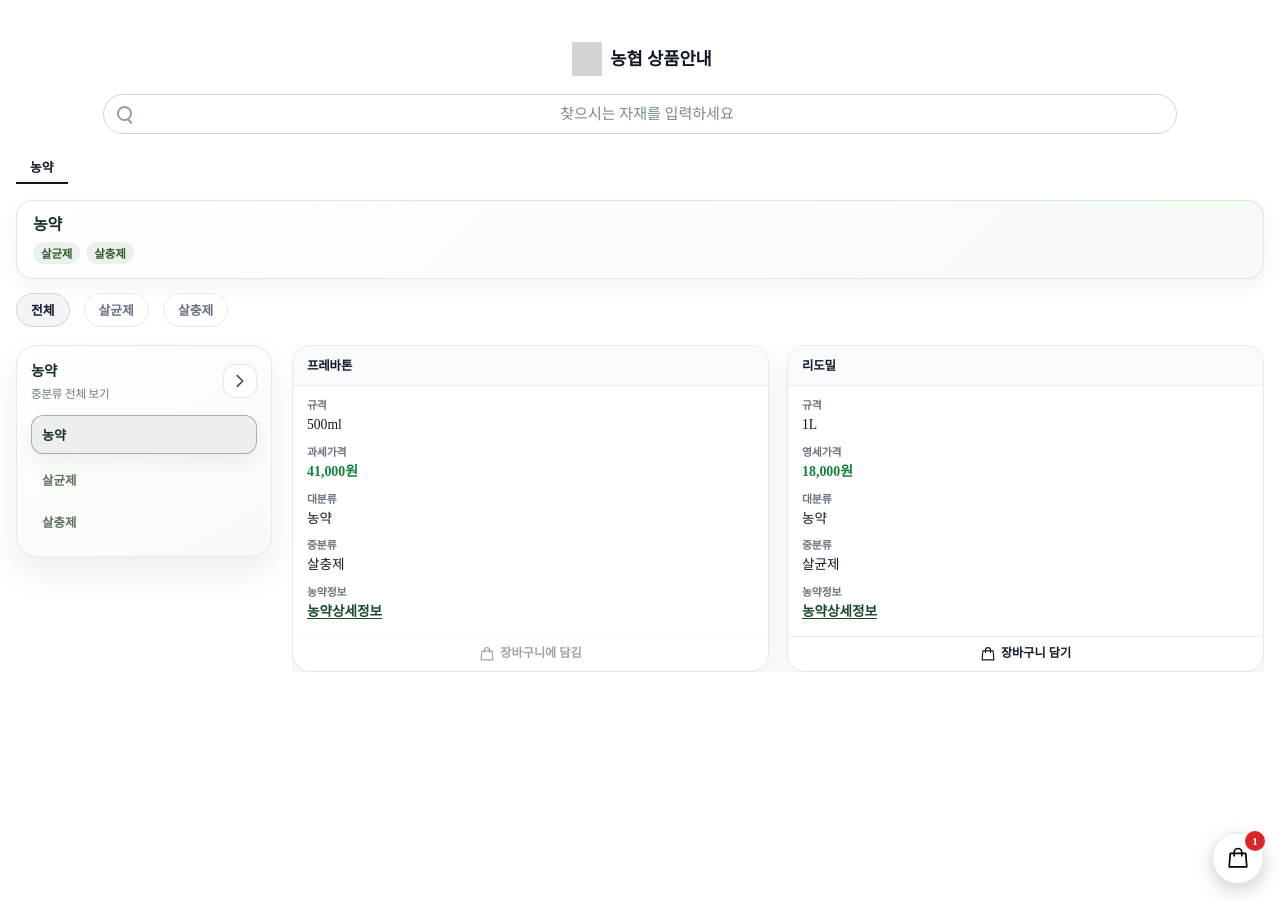
Scenario: storefront cart — panel › reads the current price back, not the price at the time it was added
Click the button with test id "storefront-cart-open" at x=1238, y=858, box [1212, 832, 1264, 884]
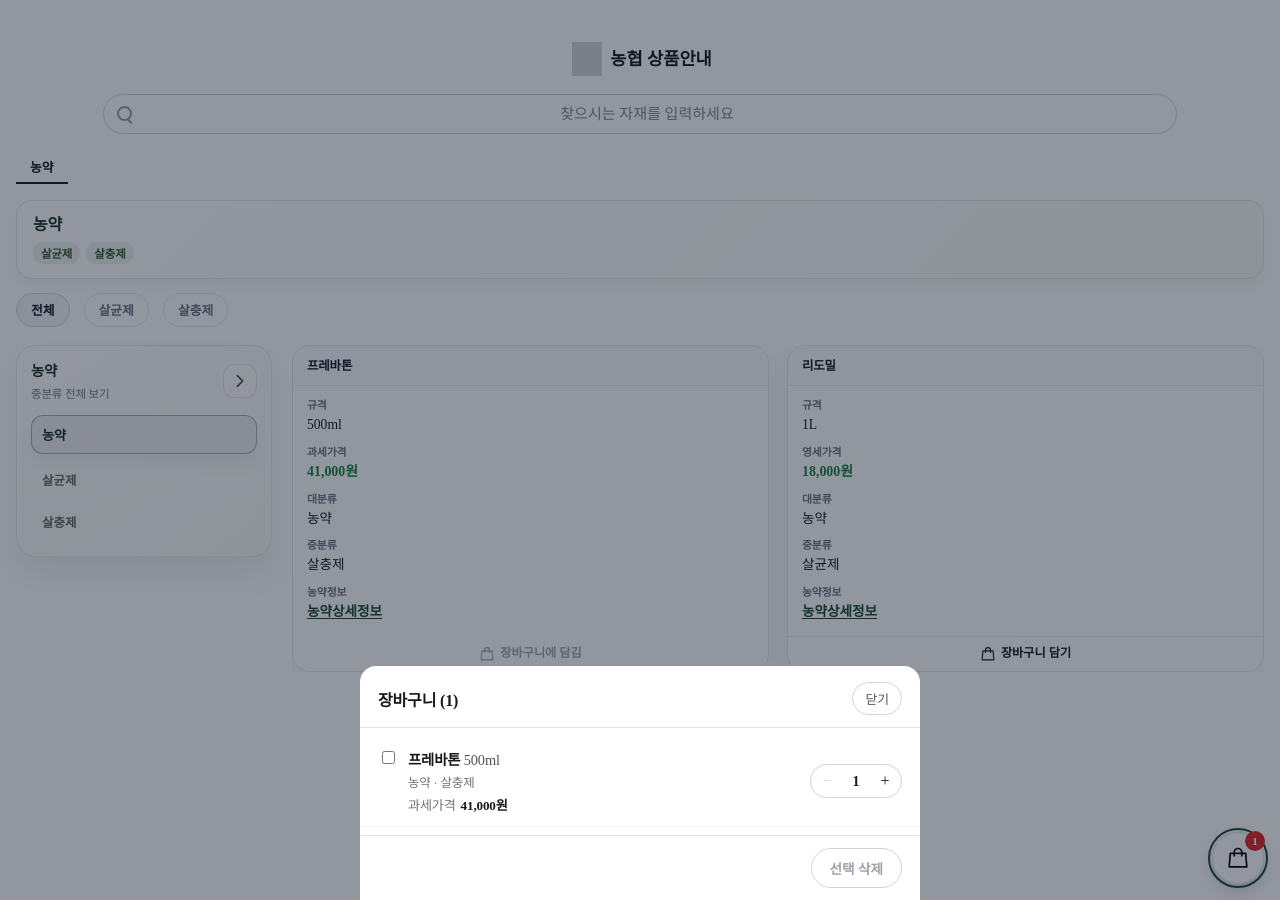
Now the text "41,000원" is shown, box [461, 795, 508, 814]
